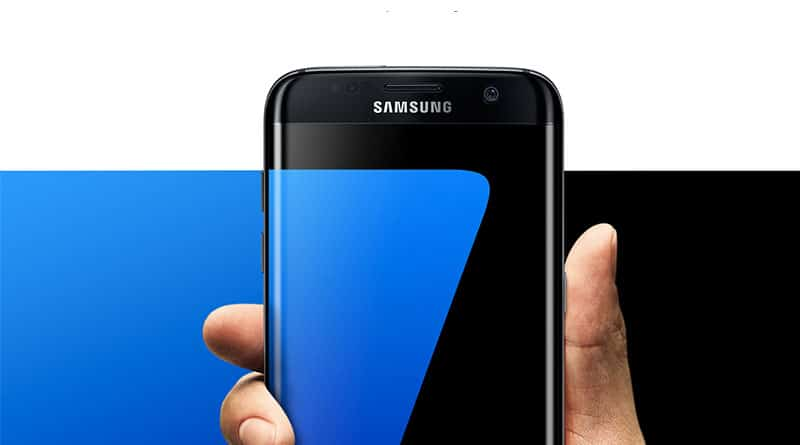Phone: (257, 60, 570, 445)
